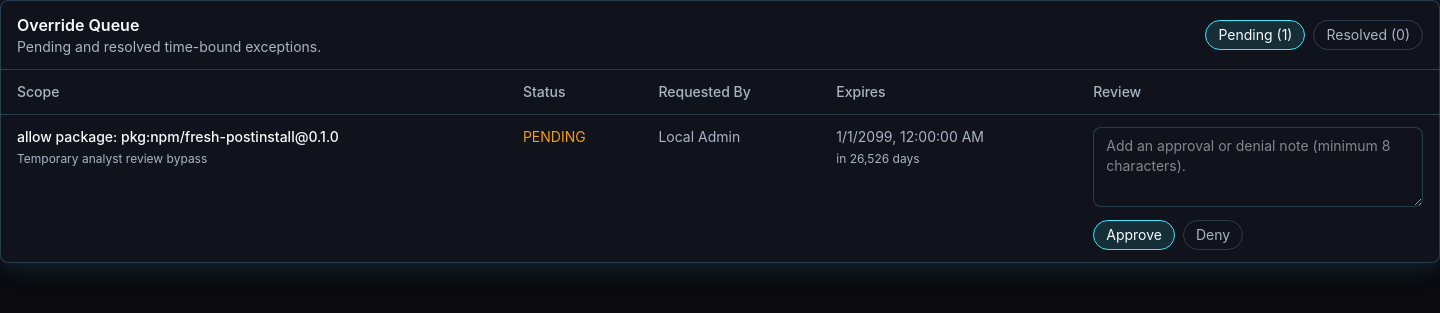
it: OverrideQueue › shows inline validation before submitting an override decision
The width and height of the screenshot is (1440, 313).
Expected: the text "Temporary analyst review bypass" is shown, [17, 151, 207, 166]
Click the button "Approve". click: {"x": 1134, "y": 235}
box: [1093, 220, 1175, 250]
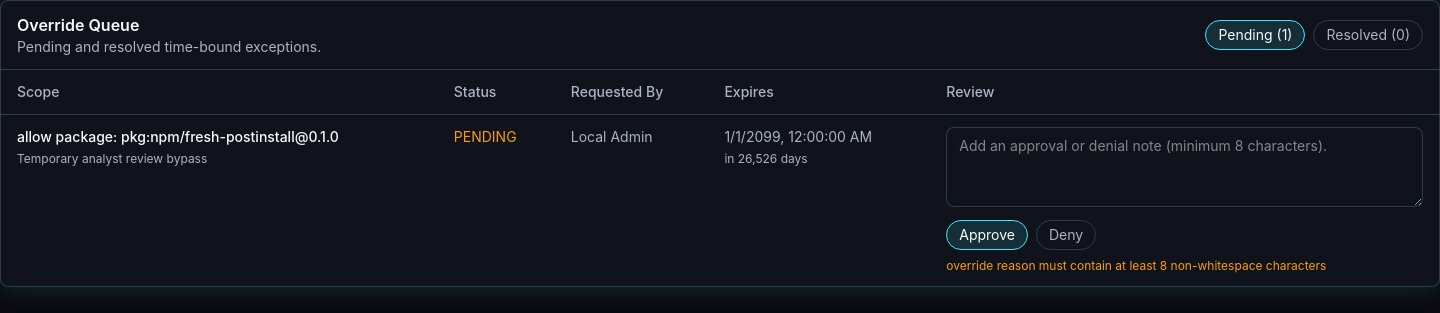
Expected: the text "override reason must contain at least 8 non-whitespace characters" is shown, [946, 258, 1326, 273]
